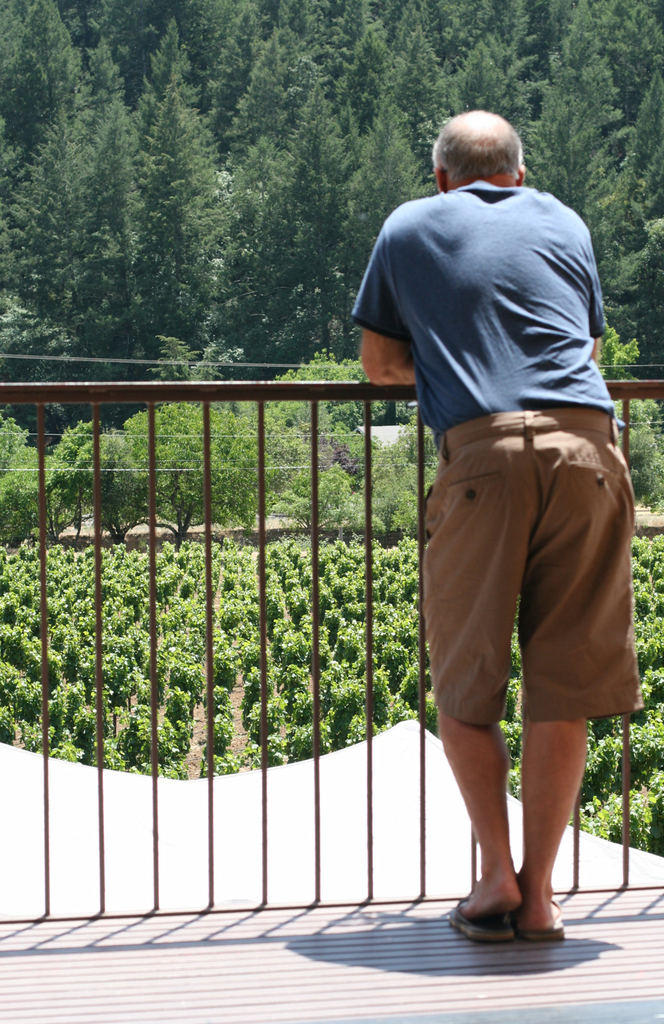Footwear: (447, 898, 512, 940), (510, 895, 567, 939)
